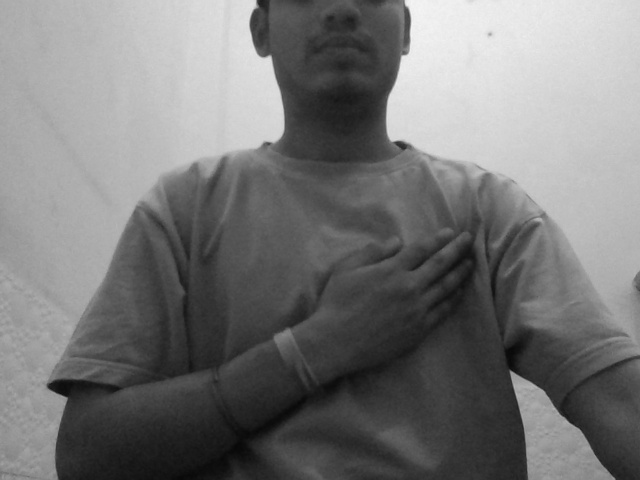Sorry: (300, 196, 514, 391)
